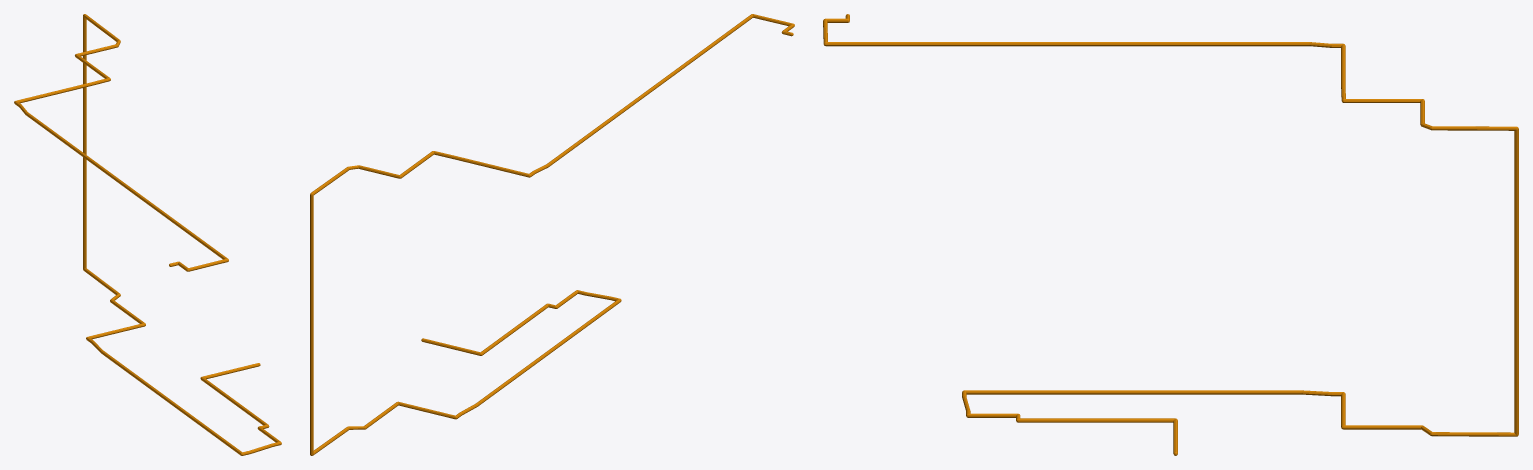
3 renders of one model, left to right at view 1: azimuth 30°, elevation 25°; view 2: azimuth 150°, elevation 25°; view 3: azimuth 270°, elevation 25°, orthographic. The views are drawn at different scales.
Size of the model in its own units: 1407 by 1520 by 3092.
